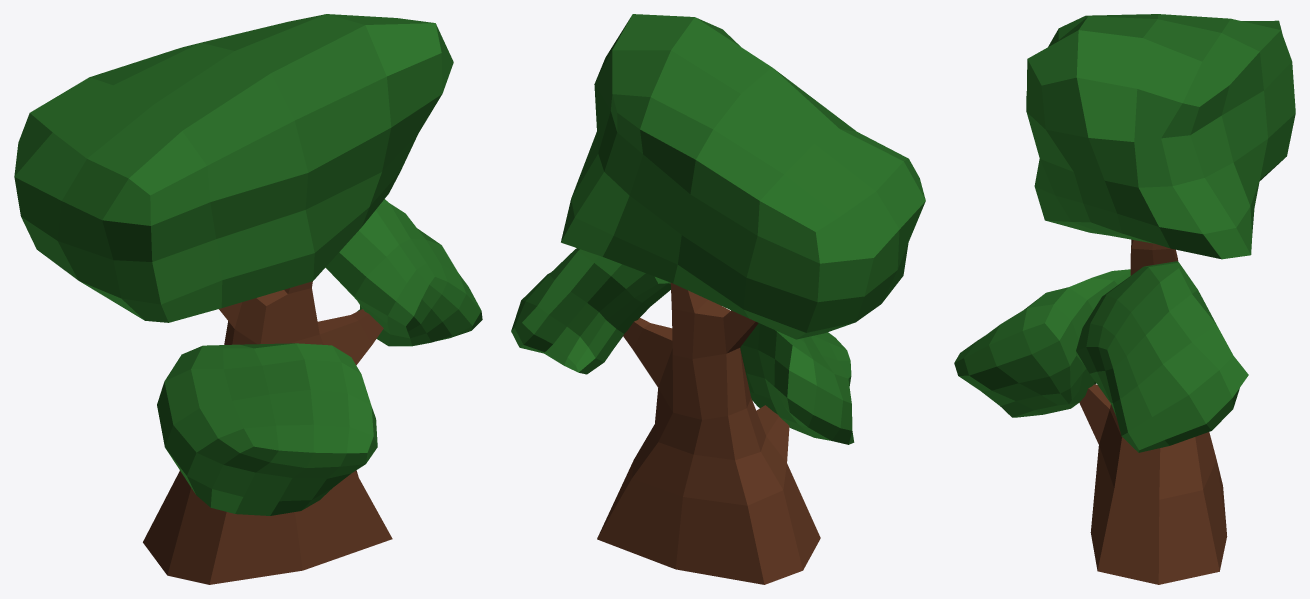
Rendered from Oak Tree 1.fbx.
3 views of the same model, side by side, from view 1: azimuth 30°, elevation 25°; view 2: azimuth 150°, elevation 25°; view 3: azimuth 270°, elevation 25° (orthographic). The views are drawn at different scales.
Visible parts, largest first — view 1: Cube.001, Cube.003, Cube, Cube.002; view 2: Cube.001, Cube, Cube.002, Cube.003; view 3: Cube.001, Cube.002, Cube, Cube.003.
Boxes of the visible parts, x1,y1,x2,y2 form: Cube.001: [14, 14, 453, 322]; Cube.003: [157, 343, 377, 515]; Cube: [143, 281, 392, 584]; Cube.002: [325, 199, 482, 346]; Cube.001: [561, 14, 925, 339]; Cube: [597, 283, 820, 584]; Cube.002: [511, 248, 670, 374]; Cube.003: [731, 310, 854, 444]; Cube.001: [1026, 14, 1295, 259]; Cube.002: [1076, 261, 1248, 452]; Cube: [1079, 239, 1227, 584]; Cube.003: [954, 269, 1130, 417].
Size of the model in its own units: 3283 by 4158 by 2332.
